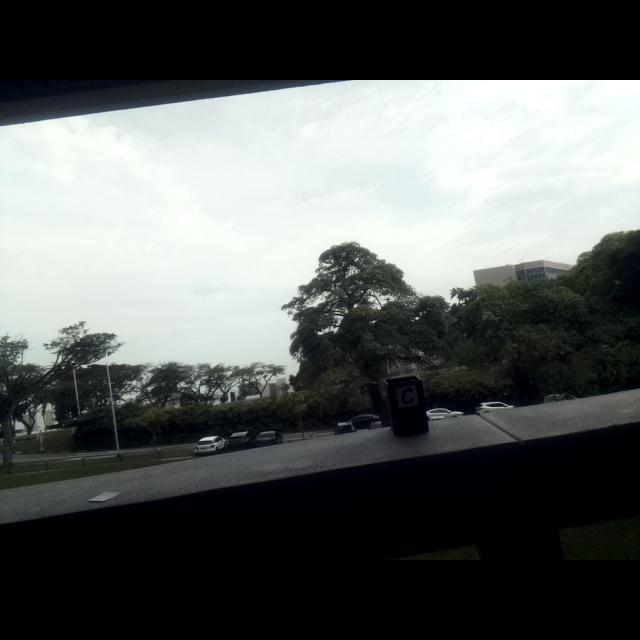C: (400, 386, 415, 405)
